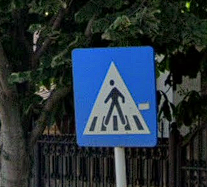trecere_pietoni: (71, 46, 160, 148)
